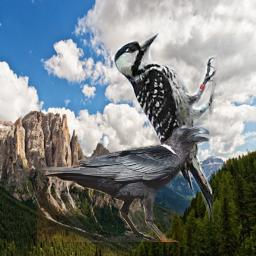Crow: (37, 124, 211, 242)
Woodpecker: (111, 32, 220, 226)
